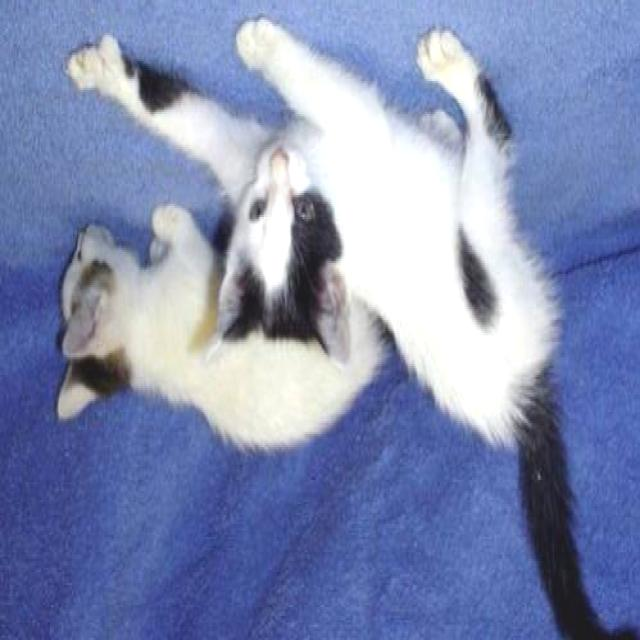Kucing: (212, 11, 590, 365), (44, 179, 208, 503)
